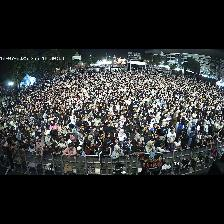person: (99, 145, 112, 169), (167, 129, 176, 149), (145, 131, 155, 148), (63, 144, 76, 157), (188, 125, 196, 146), (132, 141, 144, 155), (112, 146, 124, 159), (159, 122, 167, 141), (155, 140, 167, 152), (146, 140, 156, 154), (177, 120, 186, 135), (85, 142, 95, 155), (118, 129, 125, 147), (190, 136, 200, 148), (52, 143, 62, 155), (130, 120, 139, 133), (122, 143, 130, 157), (95, 135, 103, 149), (56, 132, 66, 143), (112, 138, 121, 150), (104, 133, 113, 145), (132, 134, 141, 146), (196, 129, 203, 144), (36, 137, 45, 148), (182, 136, 190, 148), (77, 133, 84, 146), (19, 141, 28, 151), (70, 137, 78, 148), (174, 138, 182, 149), (130, 129, 137, 141), (126, 137, 132, 151), (204, 135, 212, 145), (59, 138, 67, 148), (29, 141, 35, 154), (45, 132, 51, 145), (50, 120, 57, 130), (60, 125, 67, 135), (120, 116, 126, 127), (77, 147, 85, 155), (36, 147, 43, 156), (187, 124, 192, 136), (50, 138, 58, 145), (212, 136, 219, 144), (140, 168, 149, 174), (204, 121, 208, 132), (15, 142, 19, 153)
